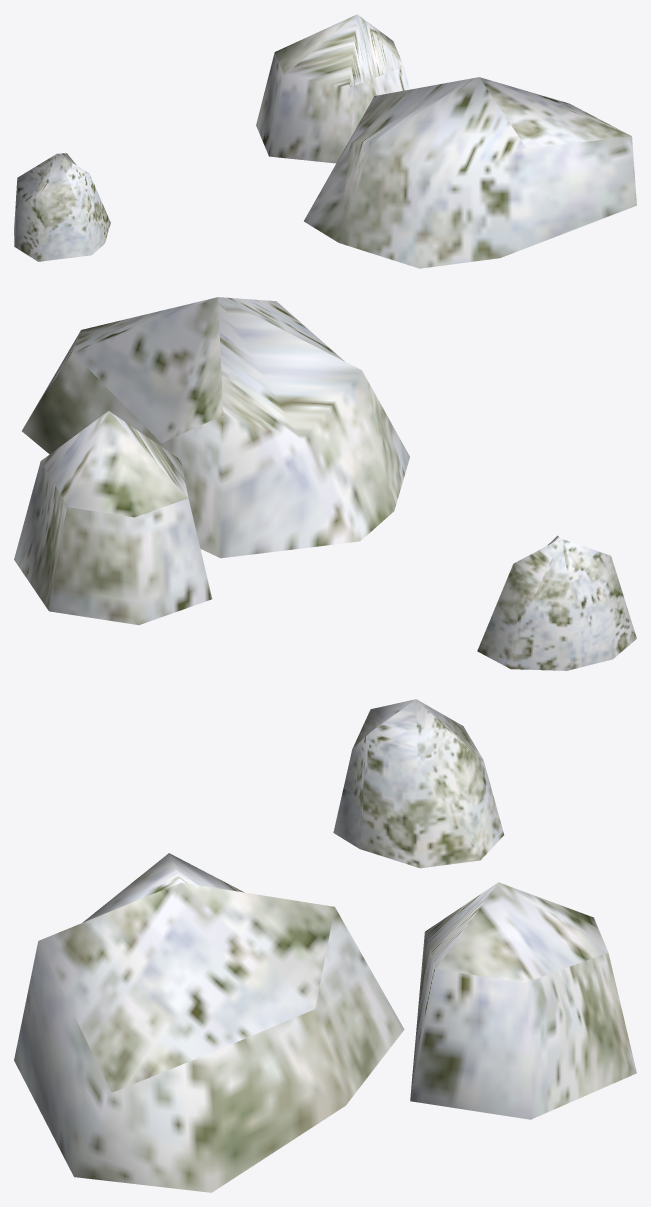
The model's file is Environment - Prop - Rocks 10 - PMRocks10.glb.
3 renders of one model, top to bottom at view 1: azimuth 30°, elevation 25°; view 2: azimuth 150°, elevation 25°; view 3: azimuth 270°, elevation 25°, orthographic. The views are drawn at different scales.
Visible parts, largest first — view 1: PMROCKS10; view 2: PMROCKS10; view 3: PMROCKS10.
Part boxes in pixels (x1,y1,x2,y2): PMROCKS10: (14,14,636,268); PMROCKS10: (14,297,636,670); PMROCKS10: (14,699,636,1192).
Bounding box in the file's own units: 23.7 × 5.68 × 15.76.
Materials: 1 (1 with a texture image).
